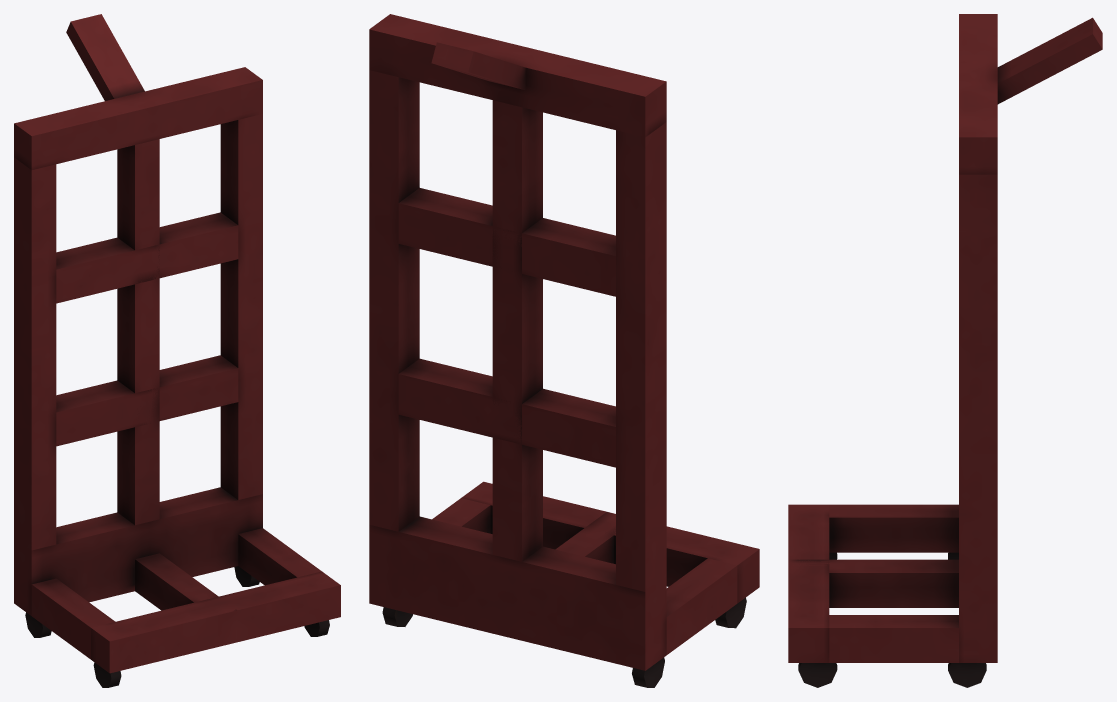
File: Cart.fbx
The picture shows the model from 3 angles, left to right: view 1: azimuth 30°, elevation 25°; view 2: azimuth 150°, elevation 25°; view 3: azimuth 270°, elevation 25°; orthographic projection. The views are drawn at different scales.
Visible parts, largest first — view 1: Cart; view 2: Cart; view 3: Cart.
Part boxes in pixels (box(x1,y1,x2,y2)): Cart: box(14, 14, 340, 687); Cart: box(369, 14, 759, 687); Cart: box(788, 14, 1102, 687).
Bounding box in the file's own units: 26.53 × 60.51 × 28.57.
